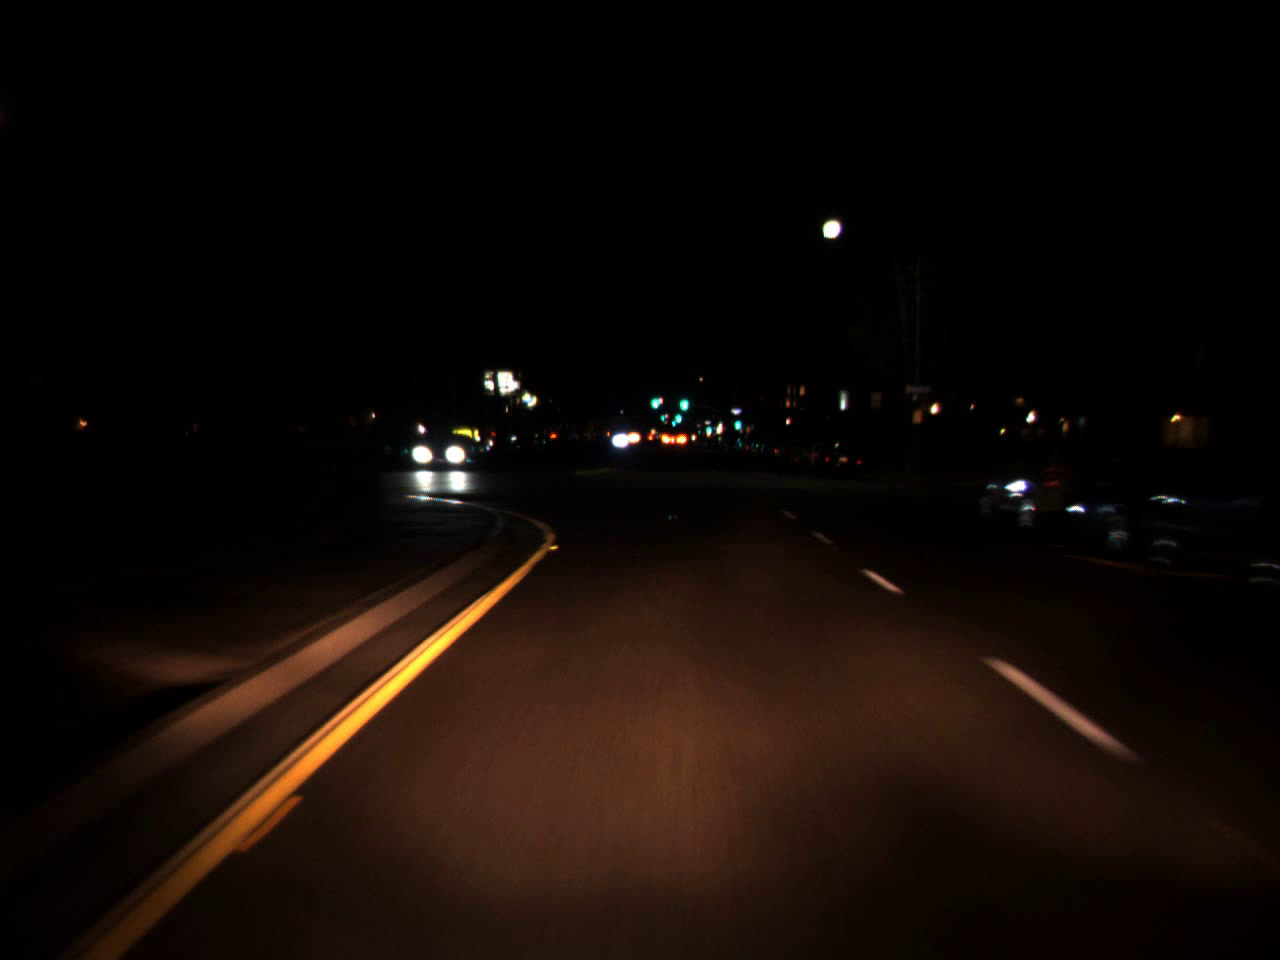go: (676, 387, 690, 414), (648, 385, 660, 412), (672, 400, 681, 427), (734, 411, 741, 432), (669, 413, 676, 428), (705, 422, 712, 434)
